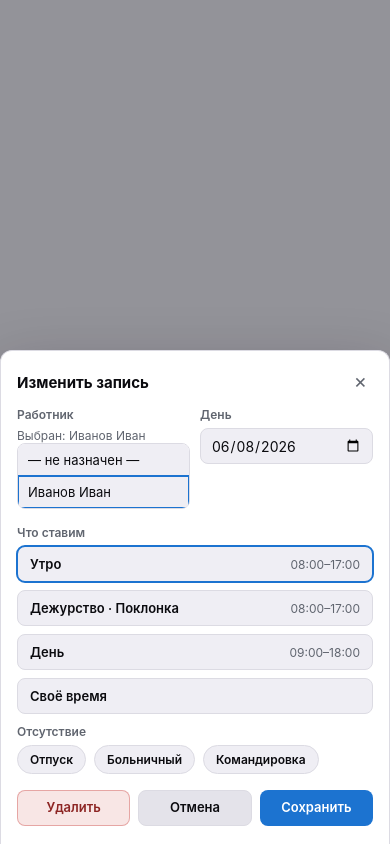
it: AddEntryPanel — «Удалить» спрашивает, а не срабатывает сразу › одно нажатие не удаляет запись, а сперва спрашивает
Click the button "Удалить" at (74, 808), box [17, 790, 130, 826]
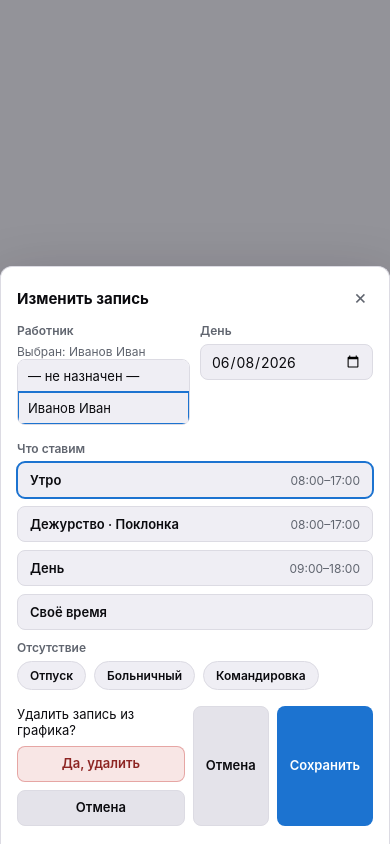
Now the text "Удалить запись из графика?" is shown, box [17, 706, 134, 738]
